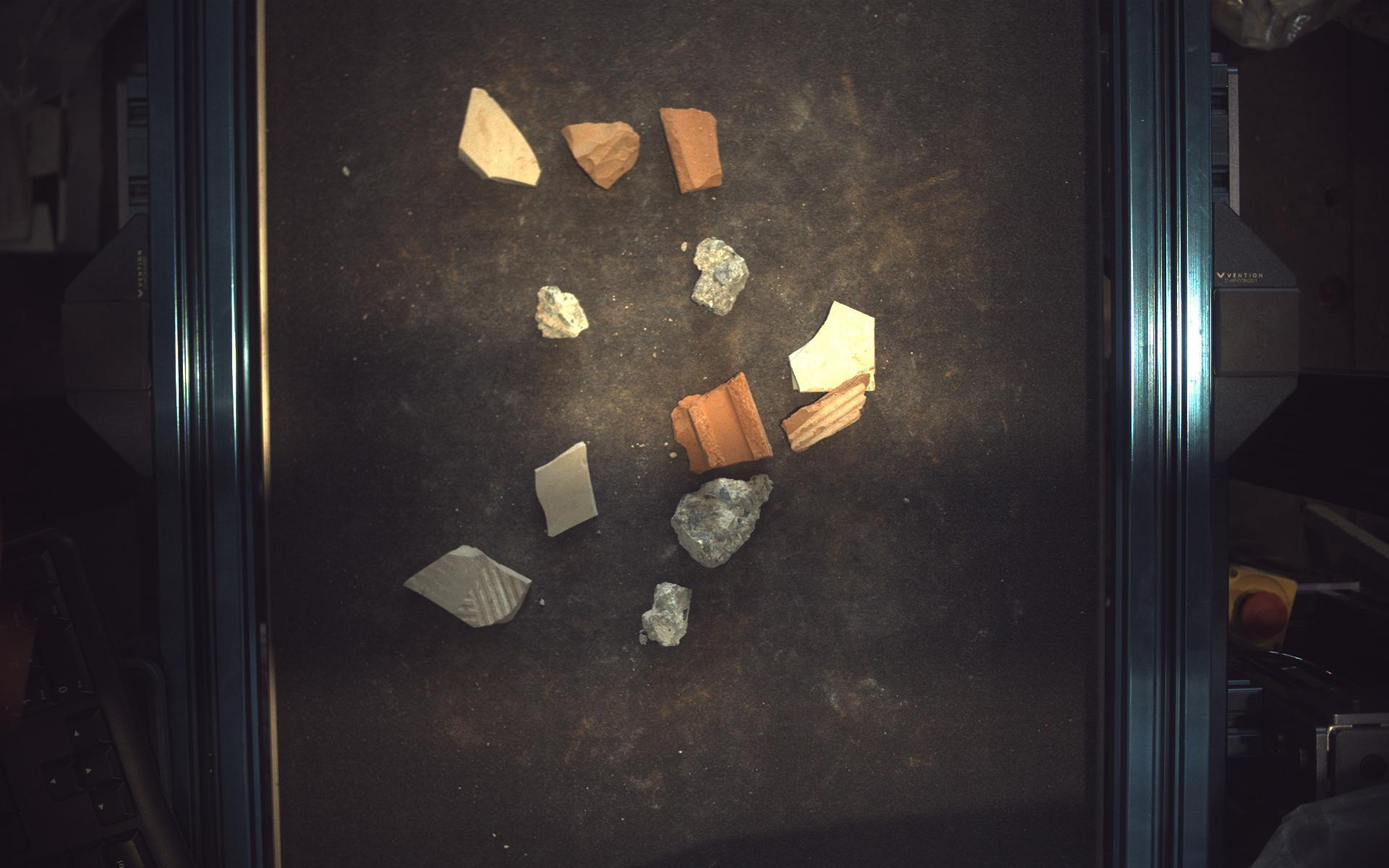brick: (673, 373, 774, 474), (783, 373, 872, 451), (661, 106, 723, 192), (562, 120, 640, 187)
concrete: (672, 475, 775, 569), (562, 121, 640, 187), (692, 237, 750, 315), (640, 583, 693, 647), (535, 286, 590, 339)
tile: (404, 545, 531, 629), (459, 86, 541, 185), (791, 302, 878, 392), (535, 442, 598, 537)
